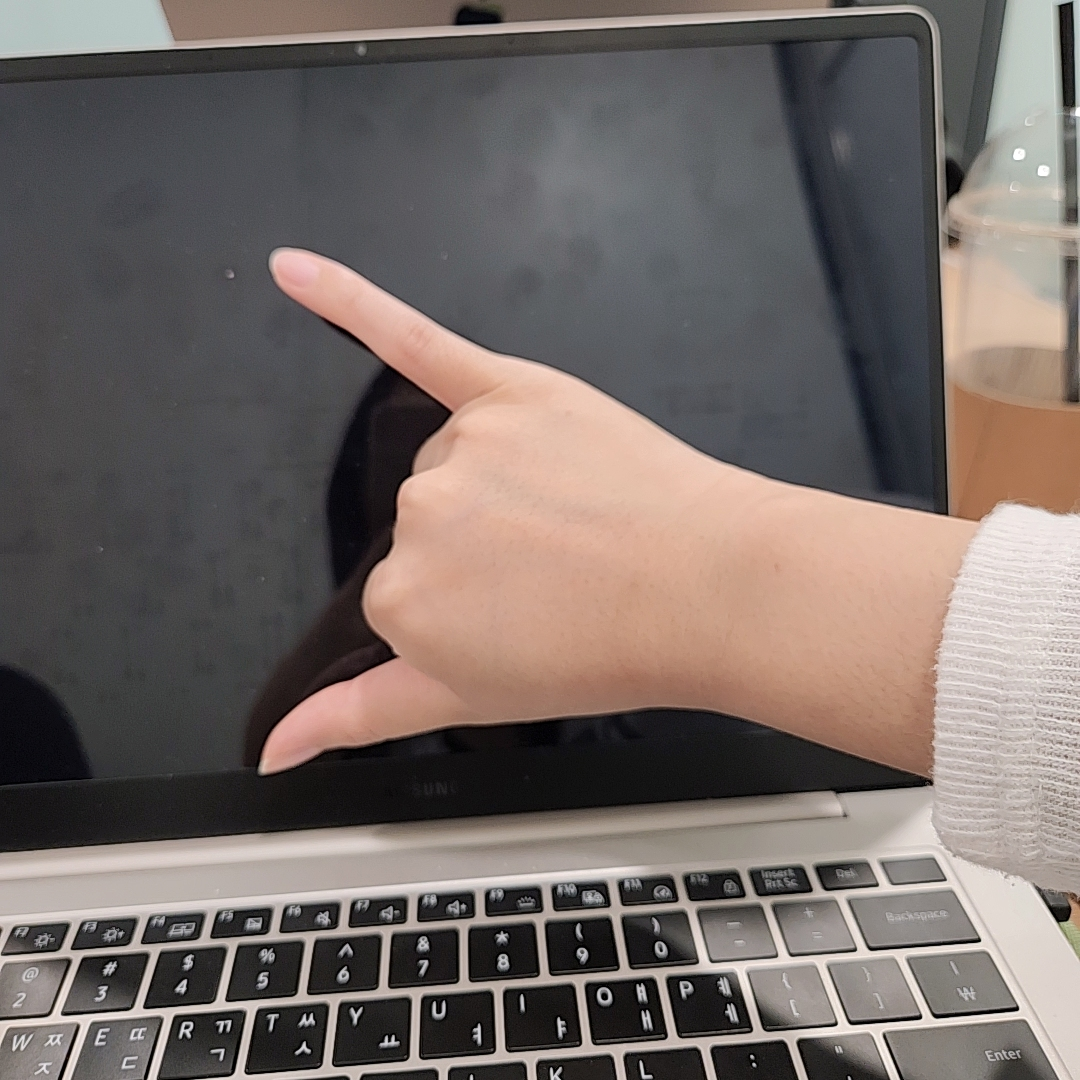call: (254, 244, 732, 775)
